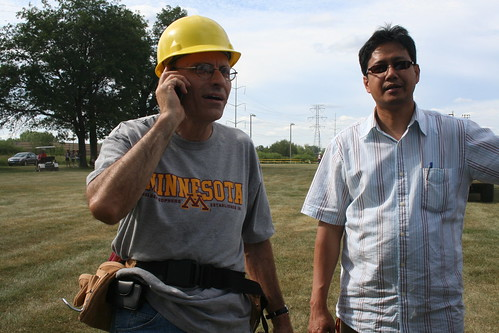person hardhat: (84, 15, 301, 332)
